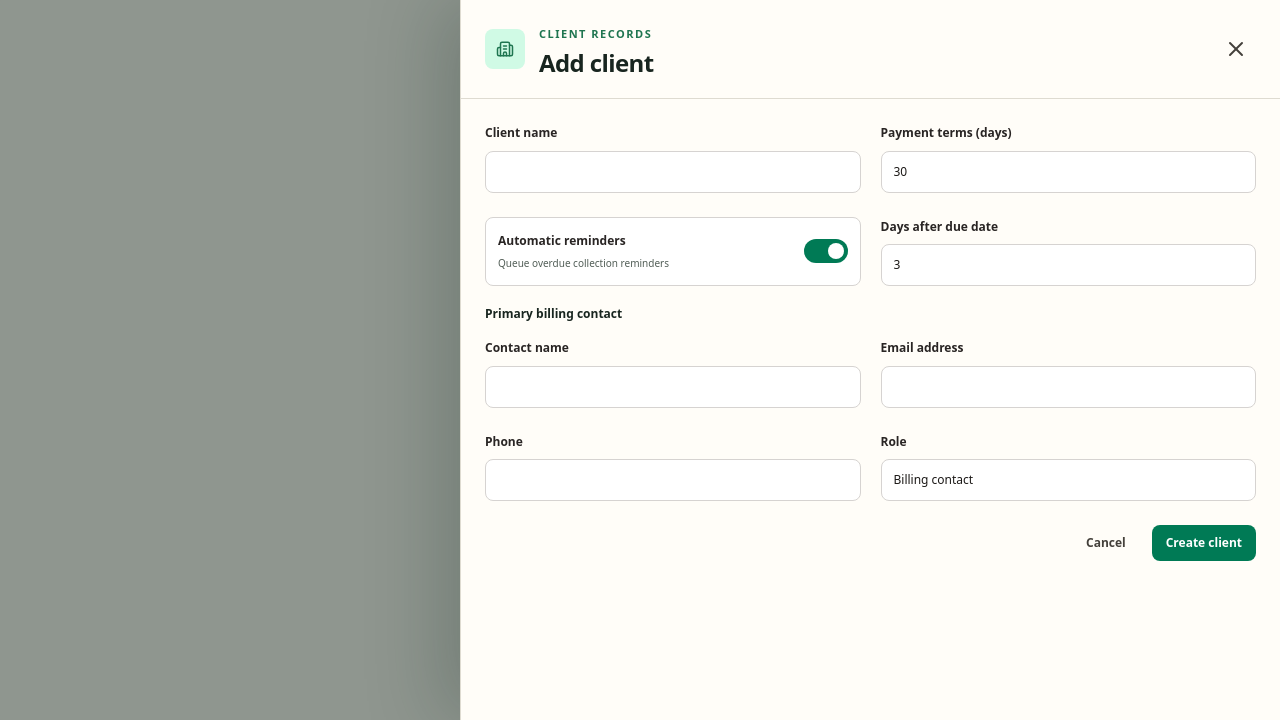
Test: ClientDialog › keeps create validation inline and does not call the API
The image size is (1280, 720).
Step 1. Click the button "Create client" → click(1204, 543), box [1152,525,1256,561]
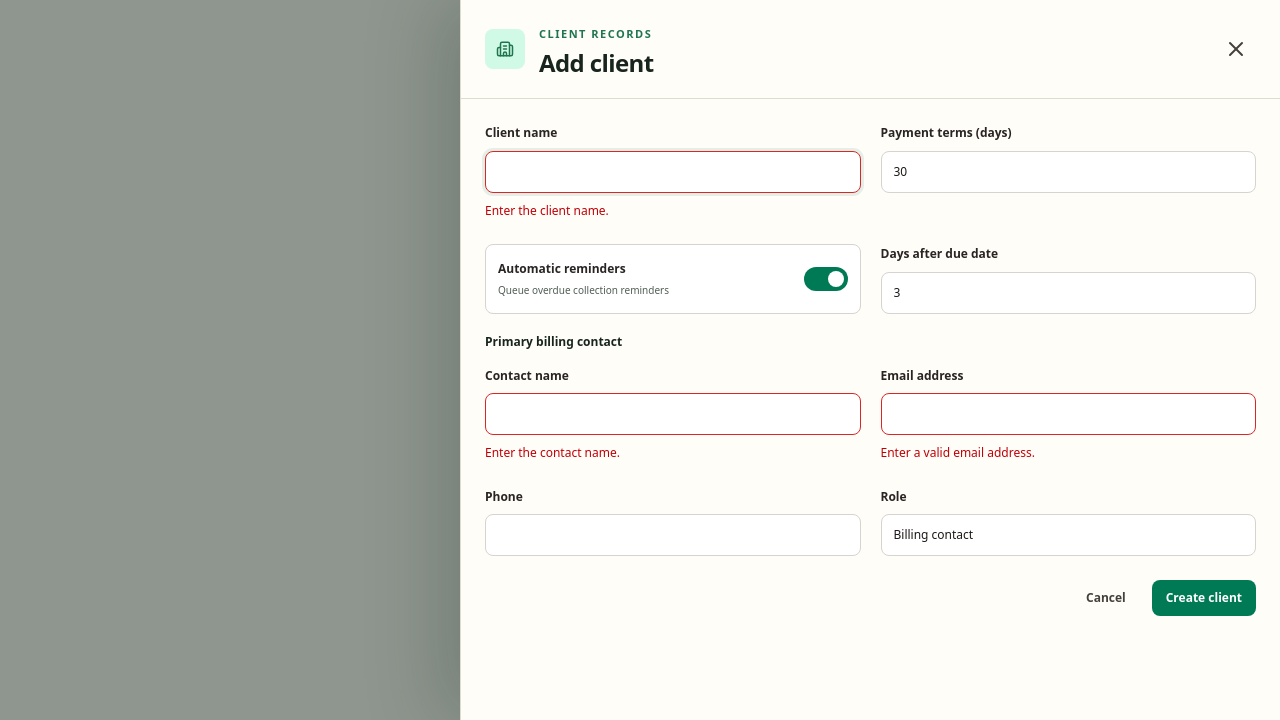
Result: the text "Enter the client name." is shown at [485,202,609,218]
Result: the text "Enter the contact name." is shown at [485,444,620,461]
Result: the text "Enter a valid email address." is shown at [880,444,1035,461]
